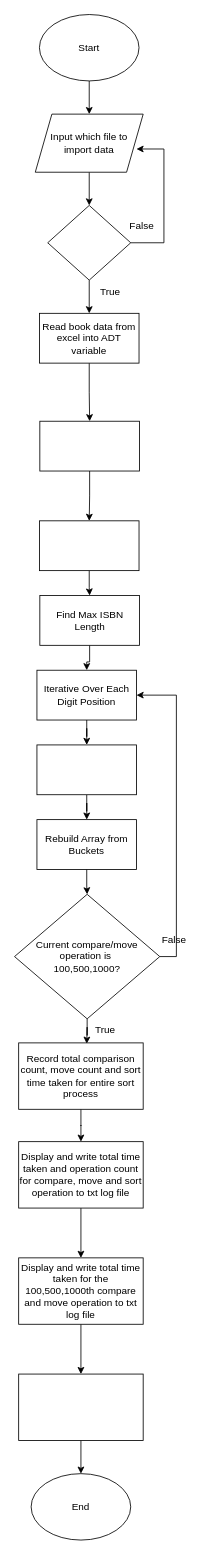
This 209x1555 diagram has some shape labels left out. The shapes that lost their labels are listed below. From the top down, each one's centre as x and y in pixels, then its label:
[89,242]: Is option valid?
[89,445]: Initialize variable to count compare & move/swap operation
[89,545]: Start radix sort process
[86,769]: Stable Counting Sort for Current Digit
[80,1406]: Write the sorted book data to text file
